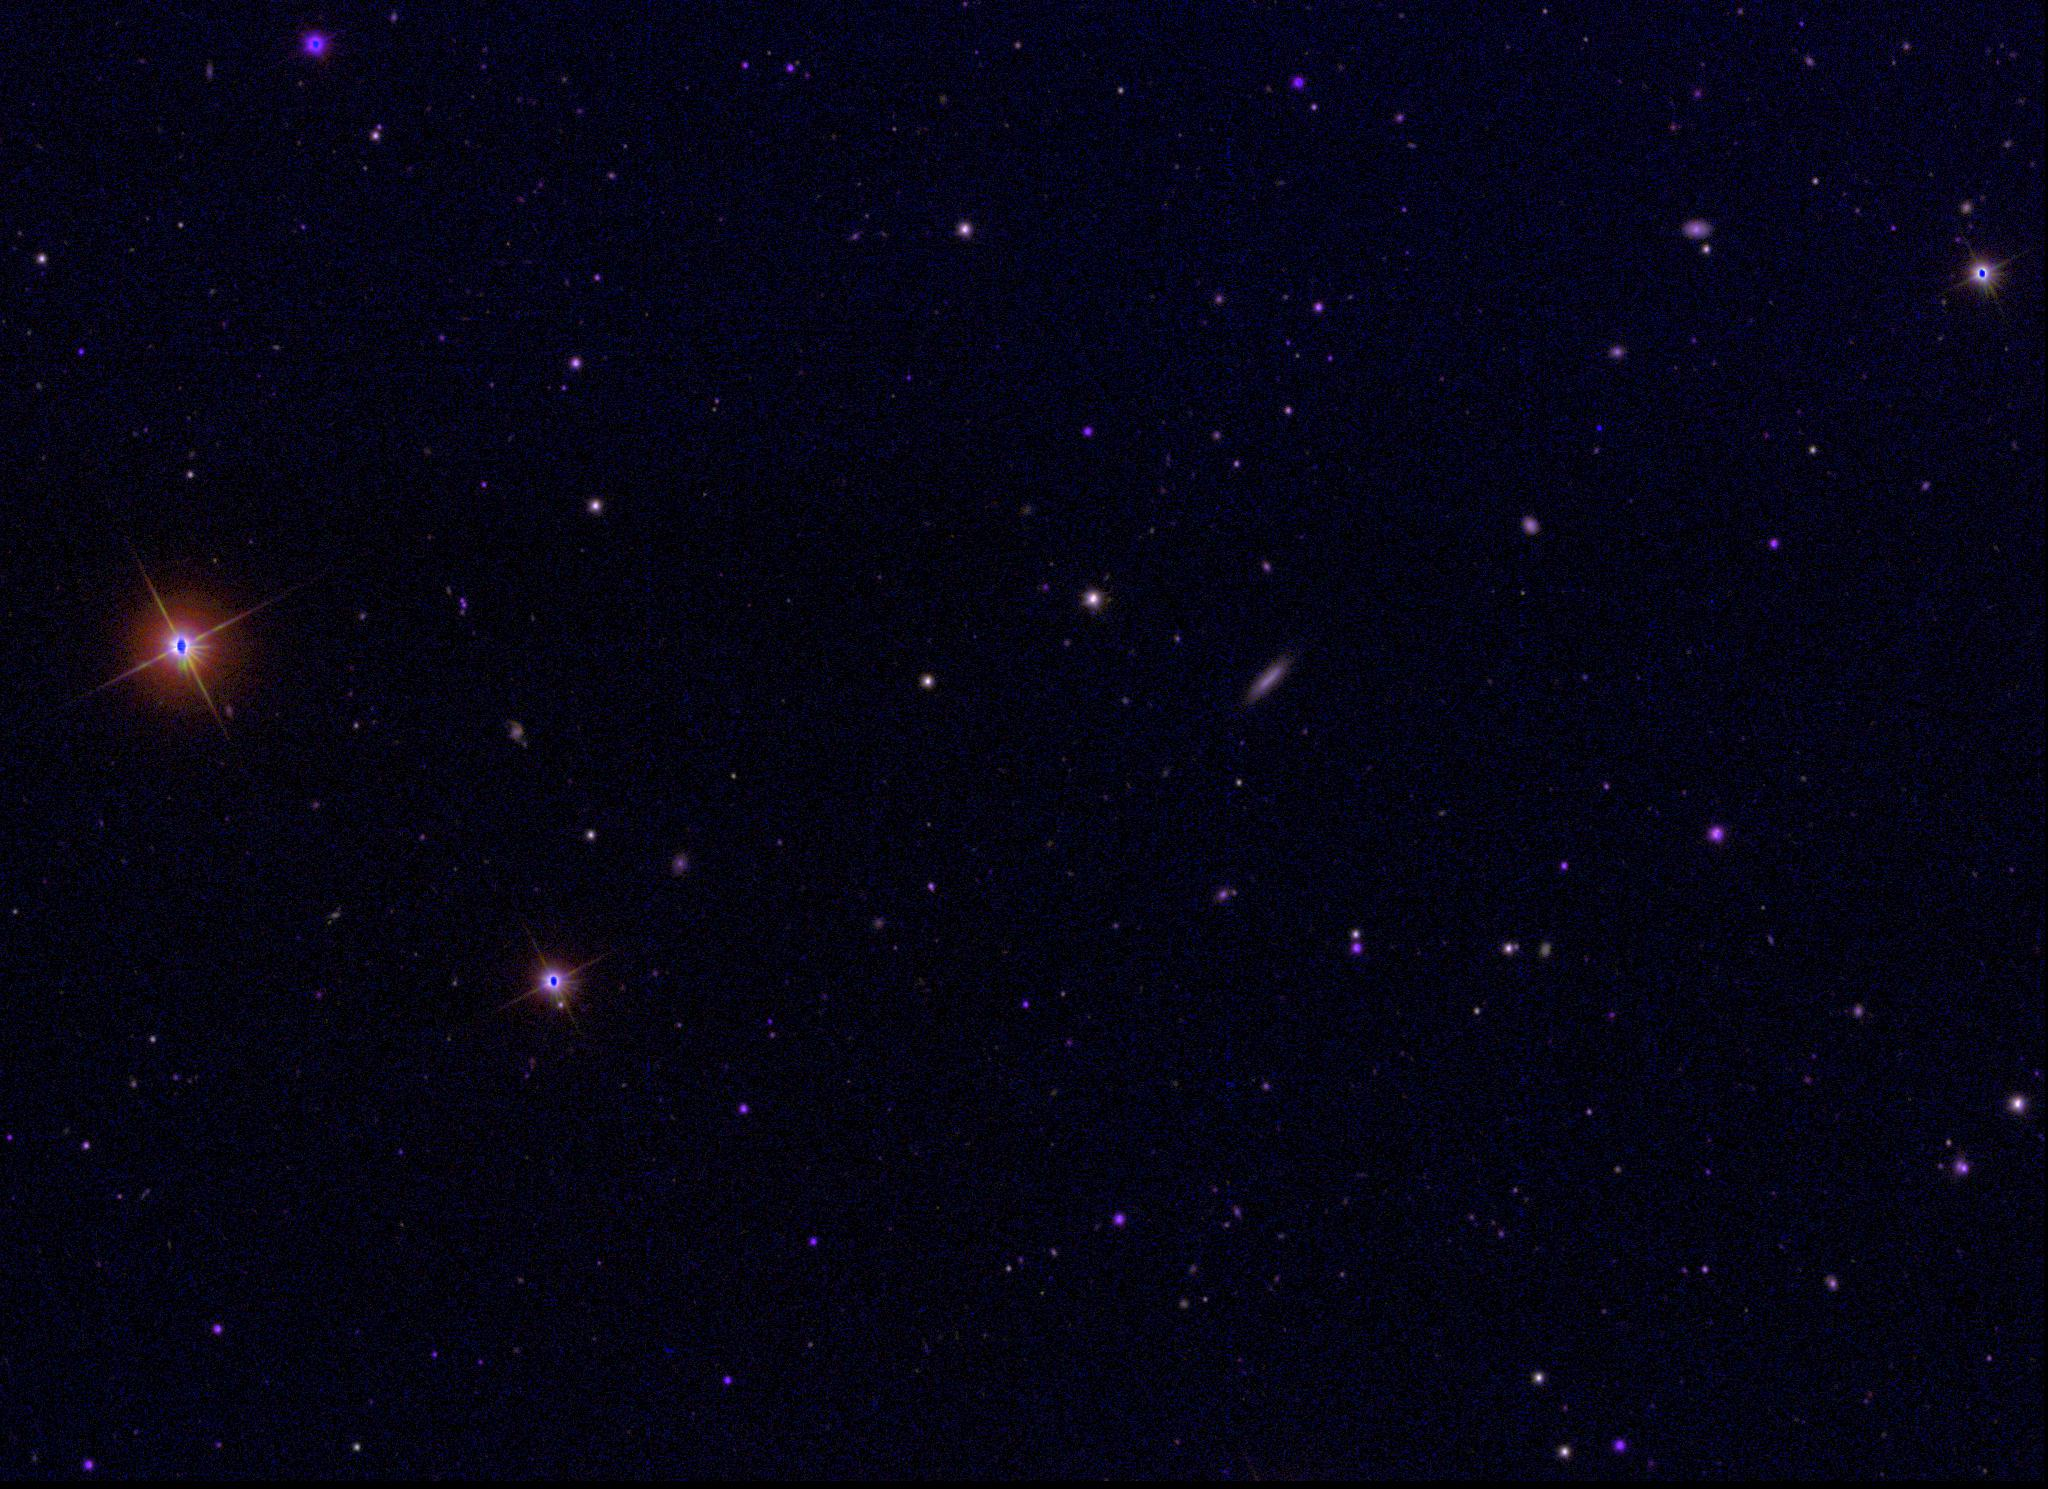L: (1593, 418, 1608, 433)
